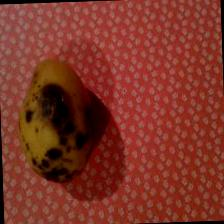Mango Overripe: (17, 50, 96, 185)
